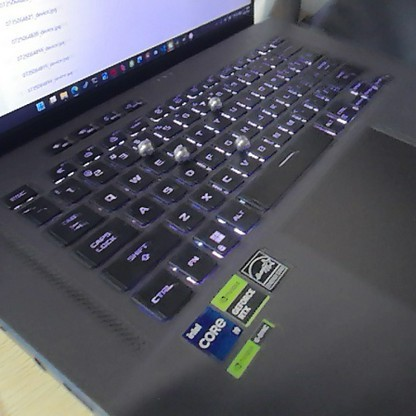ironball: (169, 141, 192, 165), (232, 130, 253, 154), (203, 91, 224, 113), (133, 137, 154, 158)
